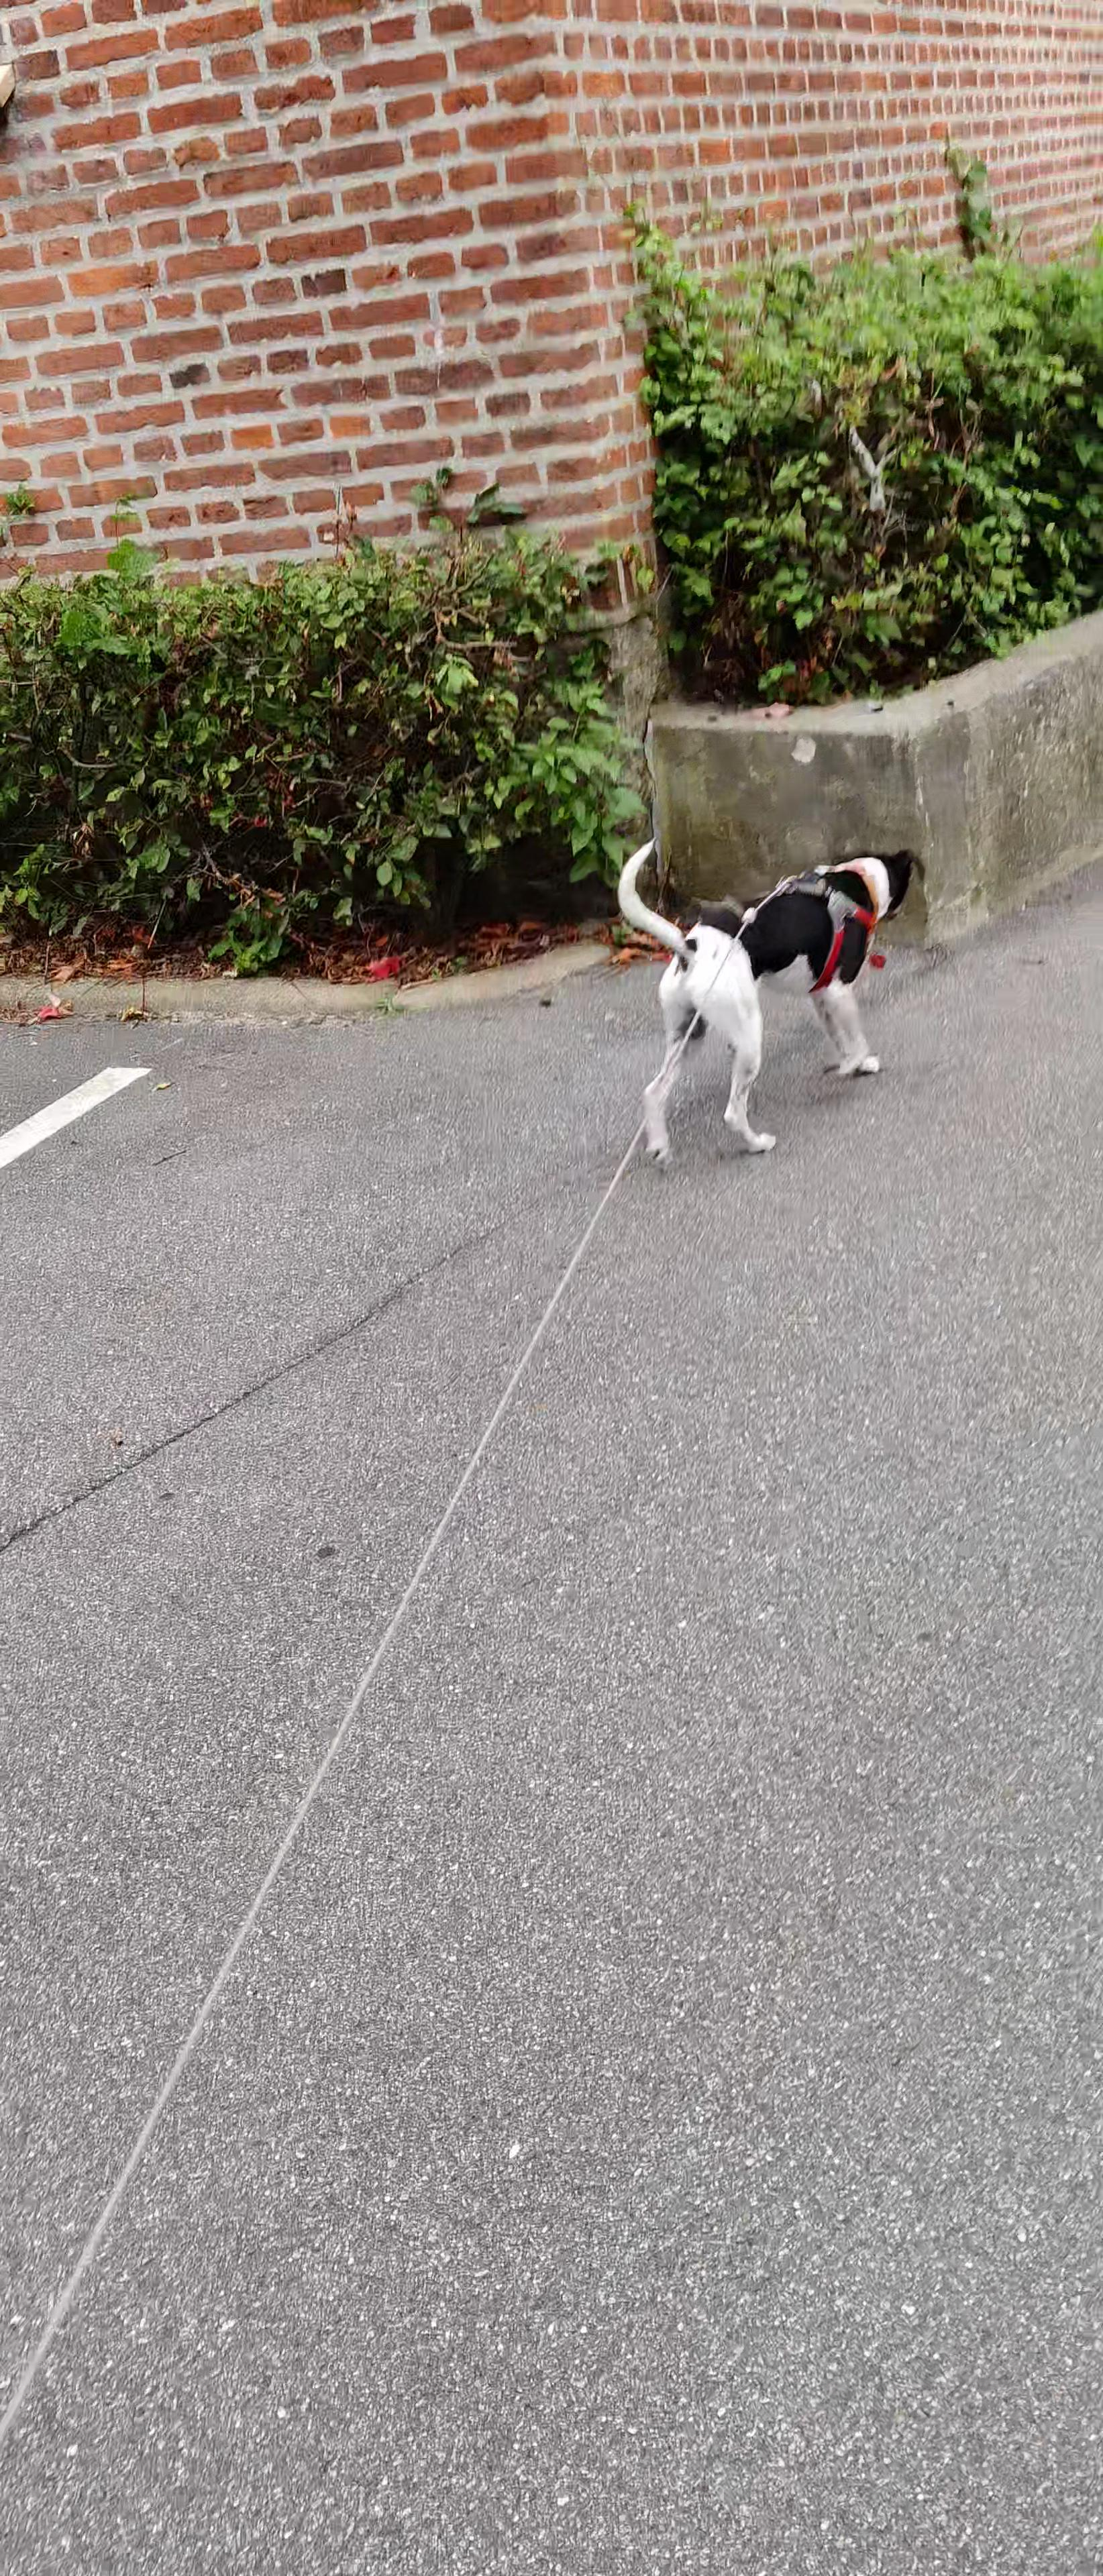Dog: (607, 830, 935, 1165)
